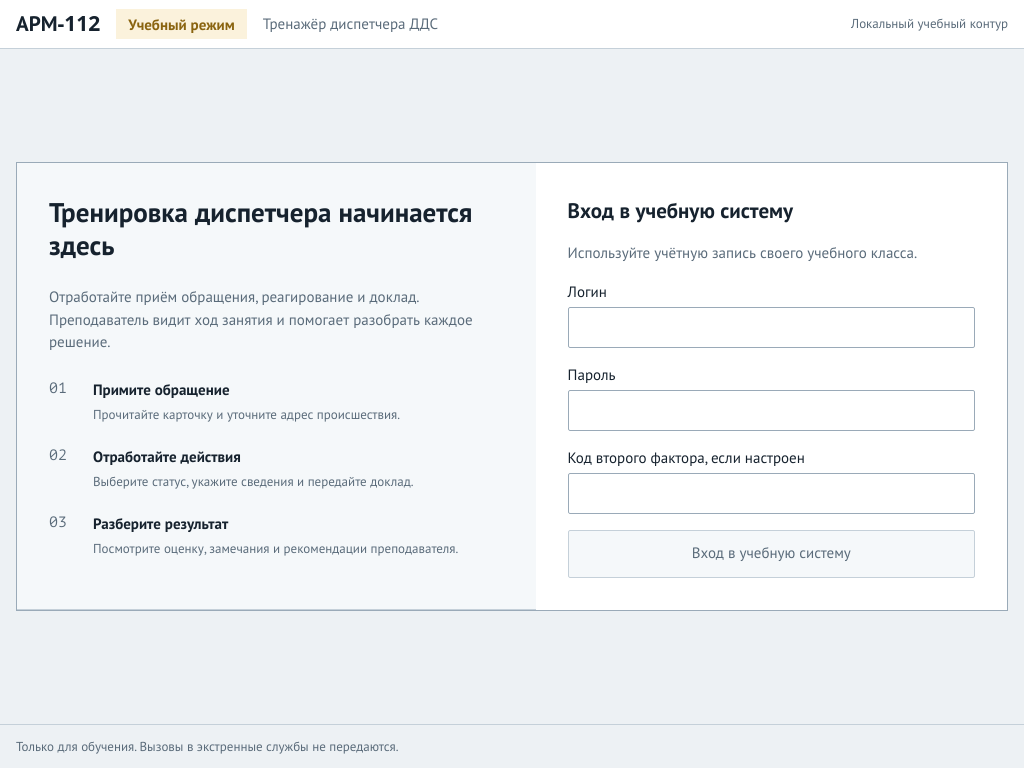
signs in and opens the protected STUDENT route
Type "user" into the field labelled "Логин" at (771, 327), box [568,307,975,348]
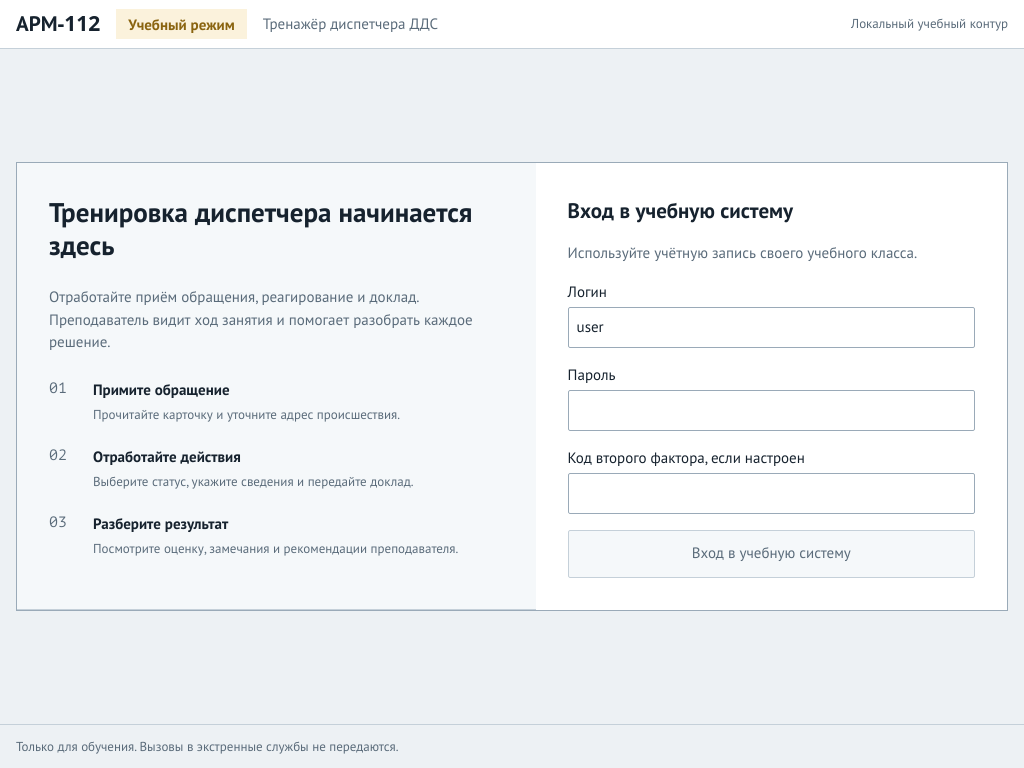
Type "password" into the password field labelled "Пароль" at (771, 410), box [568,390,975,430]
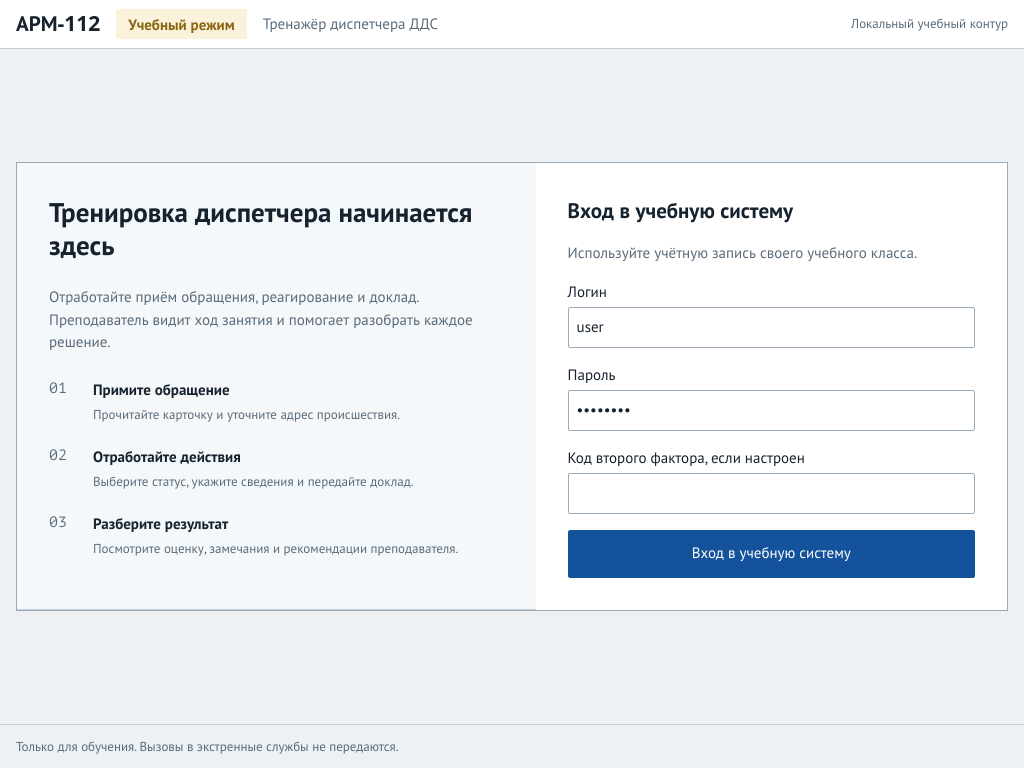
Click the button "Вход в учебную систему" at (771, 554), box [568,530,975,578]
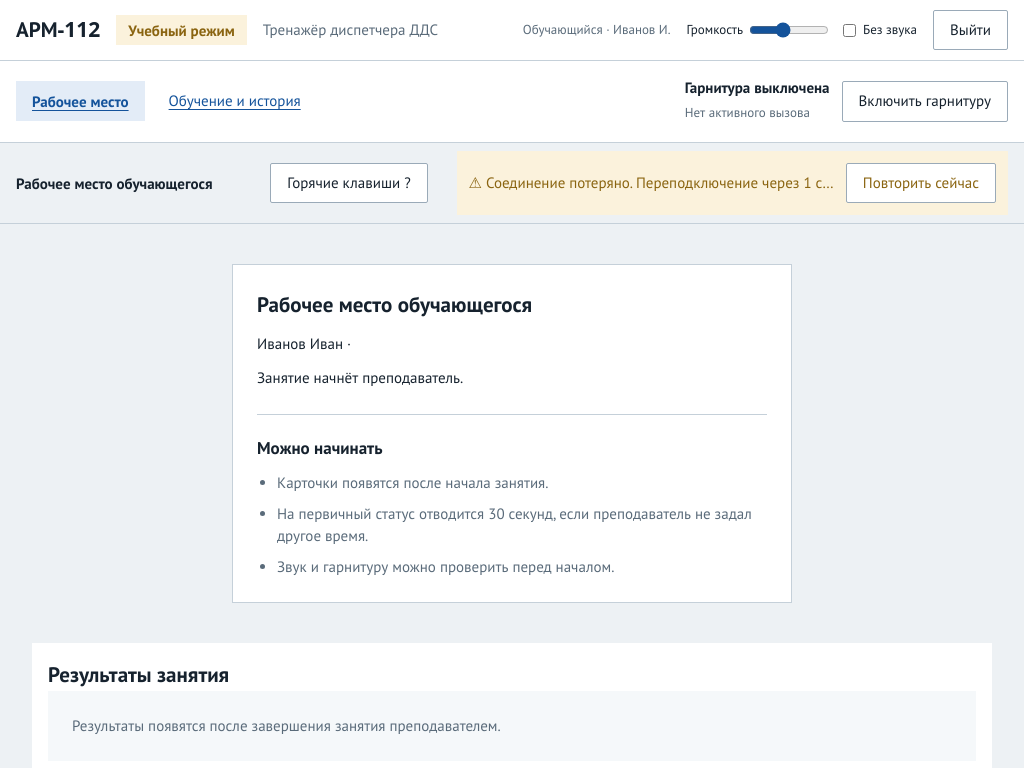
Expected: the heading "Рабочее место обучающегося" is shown, [257,290,532,318]
